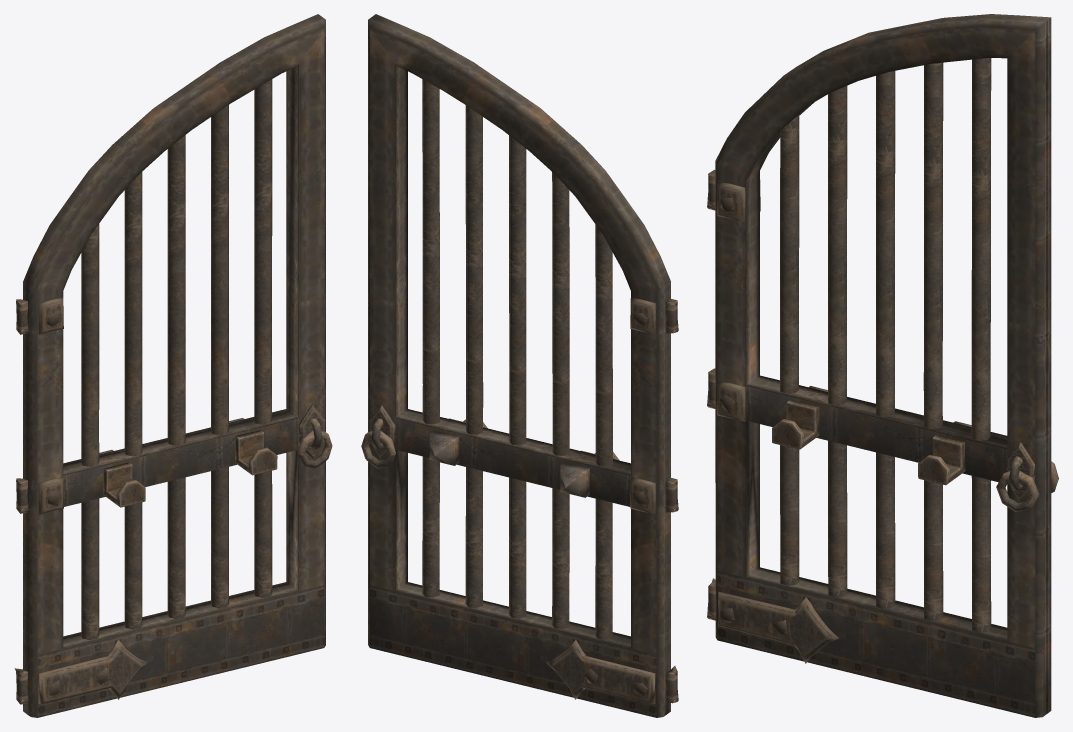
3 renders of one model, left to right at view 1: azimuth 30°, elevation 25°; view 2: azimuth 150°, elevation 25°; view 3: azimuth 330°, elevation 25°, orthographic. The views are drawn at different scales.
Visible parts, largest first — view 1: SM_DR_Vaulted_Ceiling_12x12_Doorway_Double_Door_R_01_LOD0; view 2: SM_DR_Vaulted_Ceiling_12x12_Doorway_Double_Door_R_01_LOD0; view 3: SM_DR_Vaulted_Ceiling_12x12_Doorway_Double_Door_R_01_LOD0.
Part boxes in pixels (bbox=[...]): SM_DR_Vaulted_Ceiling_12x12_Doorway_Double_Door_R_01_LOD0: bbox=[14, 14, 332, 717]; SM_DR_Vaulted_Ceiling_12x12_Doorway_Double_Door_R_01_LOD0: bbox=[361, 14, 678, 717]; SM_DR_Vaulted_Ceiling_12x12_Doorway_Double_Door_R_01_LOD0: bbox=[707, 14, 1058, 717].
Bounding box in the file's own units: 2.03 × 3.98 × 0.4849.
Materials: 2 (2 with a texture image).
